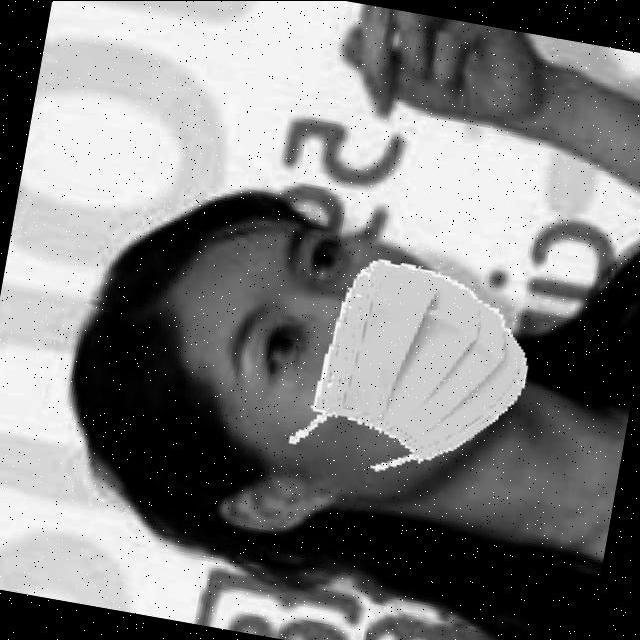mask: (308, 255, 516, 446)
no_apron: (310, 0, 549, 137)
no_gloves: (70, 228, 210, 474)
